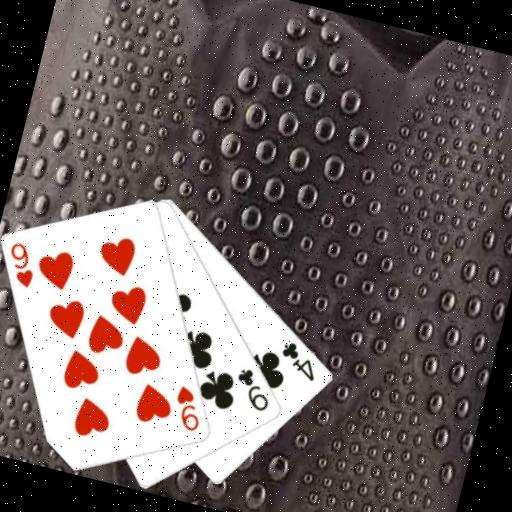4C: (274, 337, 324, 384)
9C: (228, 363, 278, 415)
9H: (167, 382, 210, 435), (0, 237, 42, 290)
